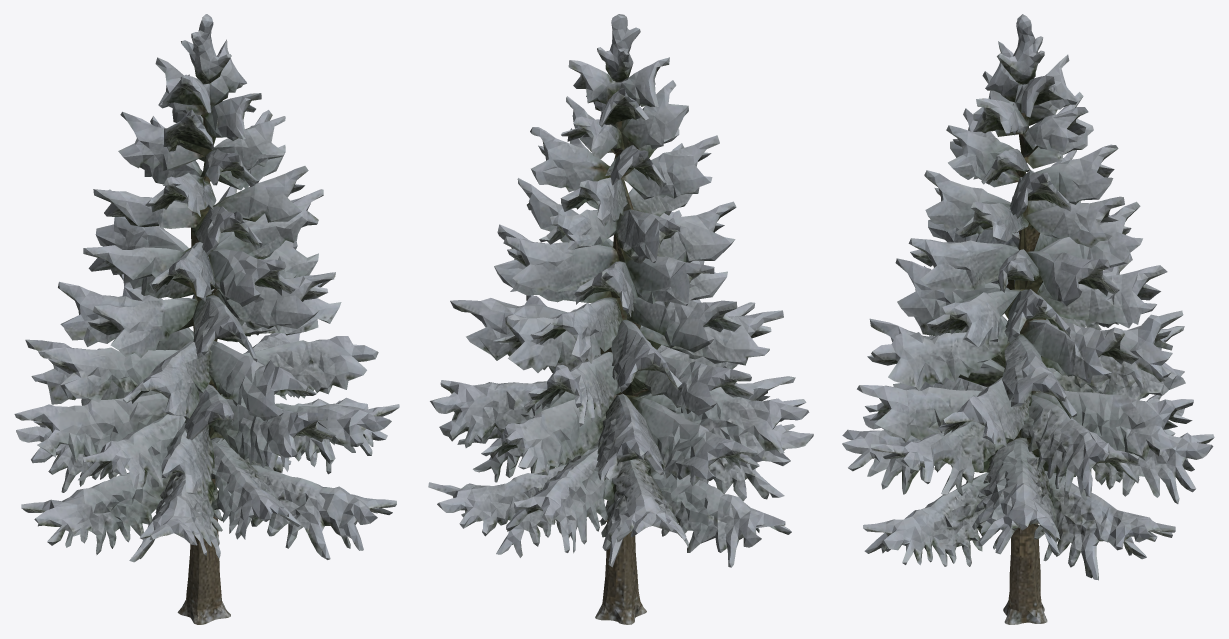
File: snowy+pine+tree+3d+model.glb
The picture shows the model from 3 angles, left to right: view 1: azimuth 30°, elevation 25°; view 2: azimuth 150°, elevation 25°; view 3: azimuth 270°, elevation 25°; orthographic projection.
Parts seen in each view (by area): view 1: tripo_node_abb8b701-38f4-4e8c-ad9b-98a8420d357c; view 2: tripo_node_abb8b701-38f4-4e8c-ad9b-98a8420d357c; view 3: tripo_node_abb8b701-38f4-4e8c-ad9b-98a8420d357c.
Boxes of the visible parts, left/top/right/bottom form: tripo_node_abb8b701-38f4-4e8c-ad9b-98a8420d357c: left=14, top=14, right=399, bottom=624; tripo_node_abb8b701-38f4-4e8c-ad9b-98a8420d357c: left=428, top=14, right=813, bottom=624; tripo_node_abb8b701-38f4-4e8c-ad9b-98a8420d357c: left=842, top=14, right=1214, bottom=624.
Size of the model in its own units: 0.5879 by 0.998 by 0.5605.
1 material, 1 textured.
